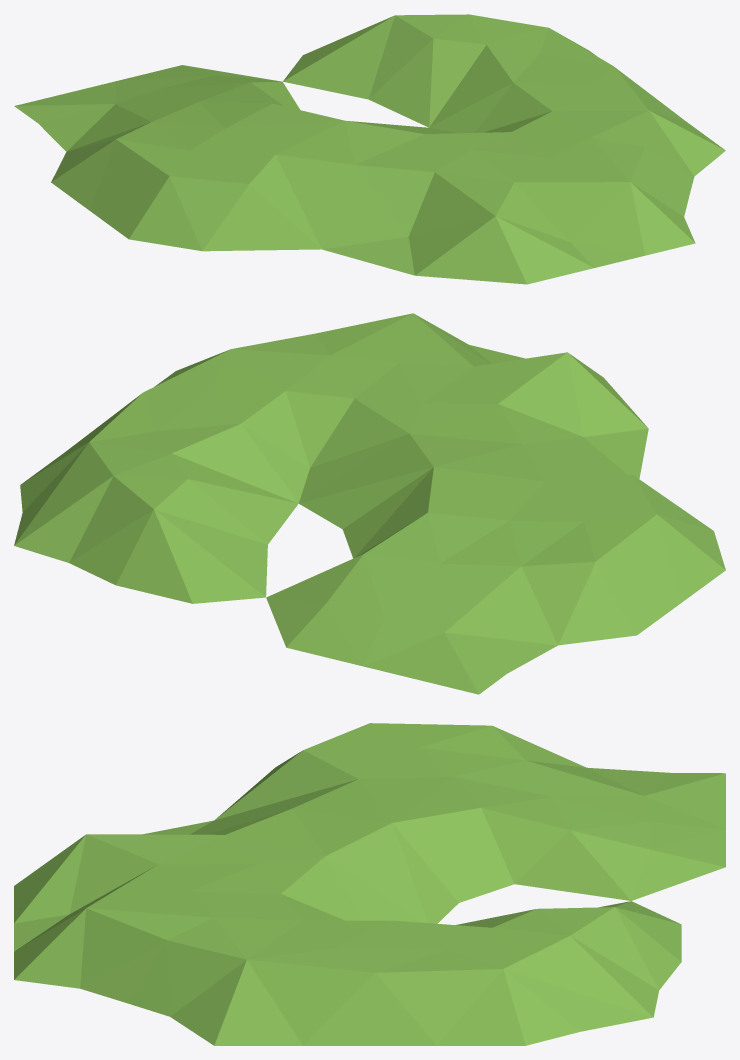
The model's file is MT_Mountain_S_c_25_LOD.fbx.
The picture shows the model from 3 angles, top to bottom: view 1: azimuth 30°, elevation 25°; view 2: azimuth 150°, elevation 25°; view 3: azimuth 270°, elevation 25°; orthographic projection. The views are drawn at different scales.
Parts seen in each view (by area): view 1: MT_Mountain_S_c_25_LOD0; view 2: MT_Mountain_S_c_25_LOD0; view 3: MT_Mountain_S_c_25_LOD0.
Part boxes in pixels (bbox=[...]): MT_Mountain_S_c_25_LOD0: bbox=[14, 14, 725, 284]; MT_Mountain_S_c_25_LOD0: bbox=[14, 313, 725, 694]; MT_Mountain_S_c_25_LOD0: bbox=[14, 723, 725, 1045].
Size of what is drawn, in the model's own units: 2500 by 212 by 2500.
